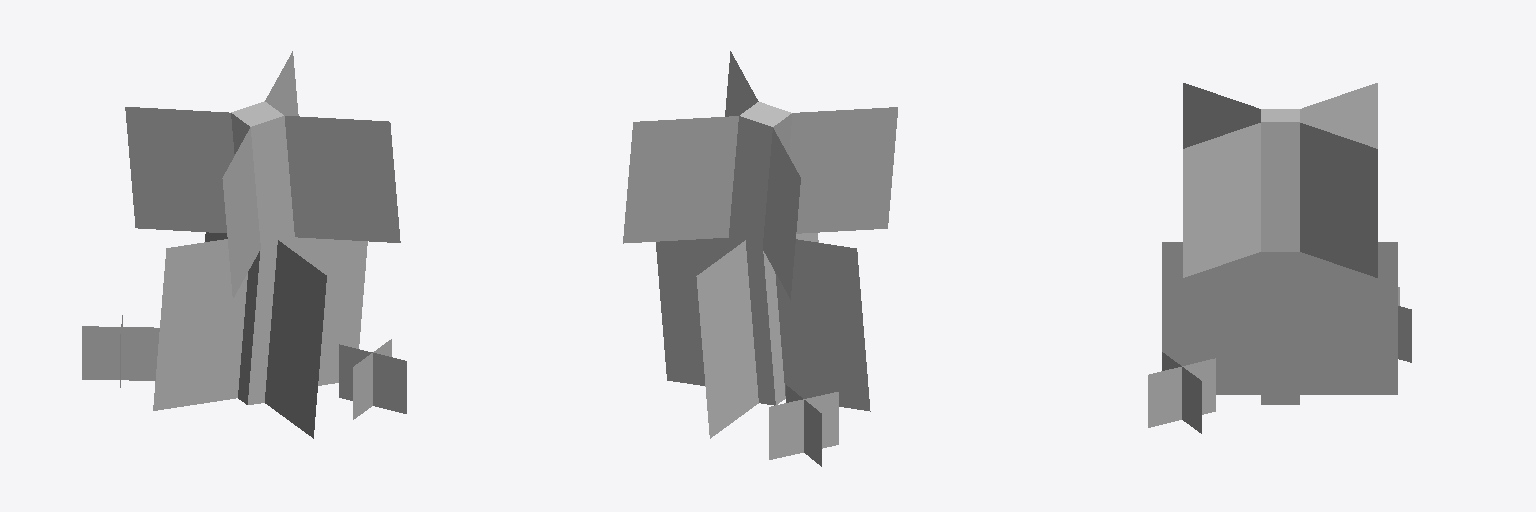
Rendered from crop_nitritethorns_stage2.obj.
3 renders of one model, left to right at view 1: azimuth 30°, elevation 25°; view 2: azimuth 150°, elevation 25°; view 3: azimuth 270°, elevation 25°, orthographic.
Visible parts, largest first — view 1: cube_8, cube_5, cube_2, cube_11, cube_4, cube_7, cube_9, cube_1, cube_12; view 2: cube_9, cube_5, cube_3, cube_4, cube_7, cube_8, cube_1, cube_10, cube_11; view 3: cube_8, cube_9, cube_3, cube_2, cube_1, cube_7, cube_11, cube_12, cube_10.
Boxes of the visible parts, x1,y1,x2,y2 form: cube_8: [125, 107, 400, 242]; cube_5: [153, 239, 247, 410]; cube_2: [265, 240, 326, 438]; cube_11: [82, 326, 406, 413]; cube_4: [294, 237, 367, 385]; cube_7: [231, 101, 294, 242]; cube_9: [222, 51, 298, 297]; cube_1: [238, 237, 294, 404]; cube_12: [353, 339, 391, 419]; cube_9: [623, 107, 897, 243]; cube_5: [775, 239, 870, 411]; cube_3: [696, 240, 758, 438]; cube_4: [656, 238, 729, 385]; cube_7: [729, 102, 792, 248]; cube_8: [725, 51, 800, 299]; cube_1: [729, 238, 785, 405]; cube_10: [769, 392, 838, 459]; cube_11: [786, 385, 821, 466]; cube_8: [1183, 83, 1377, 277]; cube_9: [1183, 83, 1377, 277]; cube_3: [1300, 242, 1397, 394]; cube_2: [1162, 242, 1260, 394]; cube_1: [1261, 252, 1299, 404]; cube_7: [1261, 109, 1299, 251]; cube_11: [1148, 287, 1399, 427]; cube_12: [1162, 352, 1201, 433]; cube_10: [1398, 306, 1411, 362].
Bounding box in the file's own units: 0.8378 × 1.04 × 0.8387.